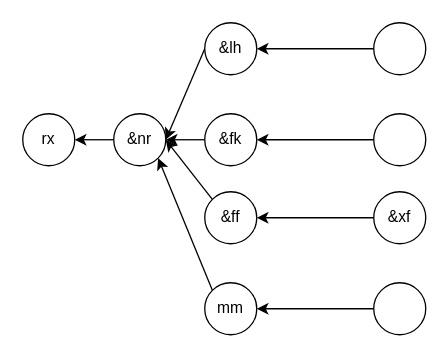
This 448x358 diagram has some shape labels left out. The centre of each missing label's shape, as x and y in pixels:
"&mq" belongs at (399,48).
"&tg" belongs at (399,308).
"&tz" belongs at (399,139).
